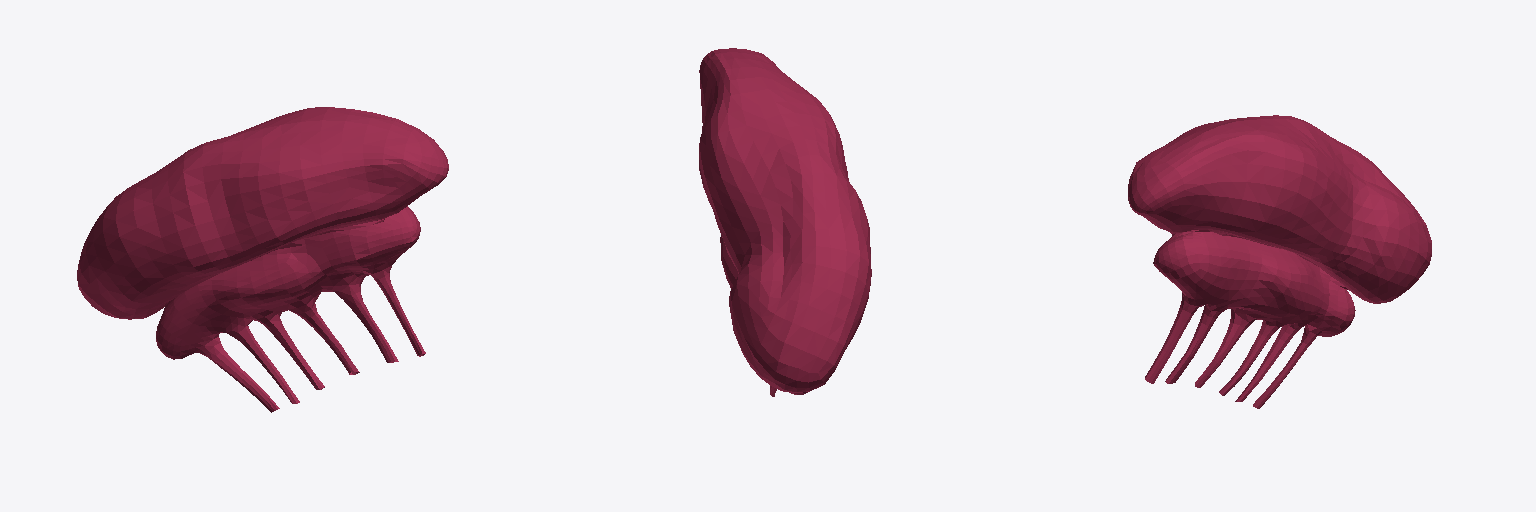
Rendered from Endocrine.Lacrimal_gland.Lacrimal_gland_R.obj.
3 renders of one model, left to right at view 1: azimuth 30°, elevation 25°; view 2: azimuth 150°, elevation 25°; view 3: azimuth 270°, elevation 25°, orthographic.
Parts seen in each view (by area): view 1: Endocrine:Lacrimal_gland:Lacrimal_gland_R_Lacrimal_gland.001; view 2: Endocrine:Lacrimal_gland:Lacrimal_gland_R_Lacrimal_gland.001; view 3: Endocrine:Lacrimal_gland:Lacrimal_gland_R_Lacrimal_gland.001.
Part boxes in pixels (left/top/right/bottom): Endocrine:Lacrimal_gland:Lacrimal_gland_R_Lacrimal_gland.001: left=77, top=107, right=448, bottom=412; Endocrine:Lacrimal_gland:Lacrimal_gland_R_Lacrimal_gland.001: left=699, top=48, right=871, bottom=396; Endocrine:Lacrimal_gland:Lacrimal_gland_R_Lacrimal_gland.001: left=1128, top=115, right=1431, bottom=408.
Bounding box in the file's own units: 0.0652 × 0.0746 × 0.0686.